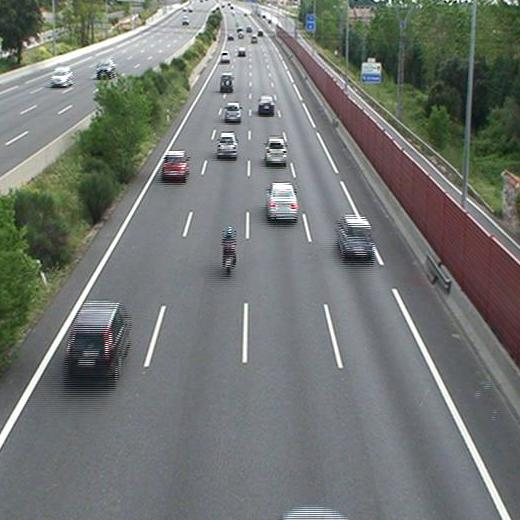car: (64, 303, 128, 372), (337, 216, 373, 256), (266, 184, 297, 219), (162, 151, 190, 179), (265, 139, 288, 163), (216, 133, 237, 155), (257, 97, 274, 114), (224, 103, 240, 121), (219, 73, 233, 90), (220, 50, 230, 62), (238, 48, 247, 56)
motorcycle: (221, 225, 238, 276)
